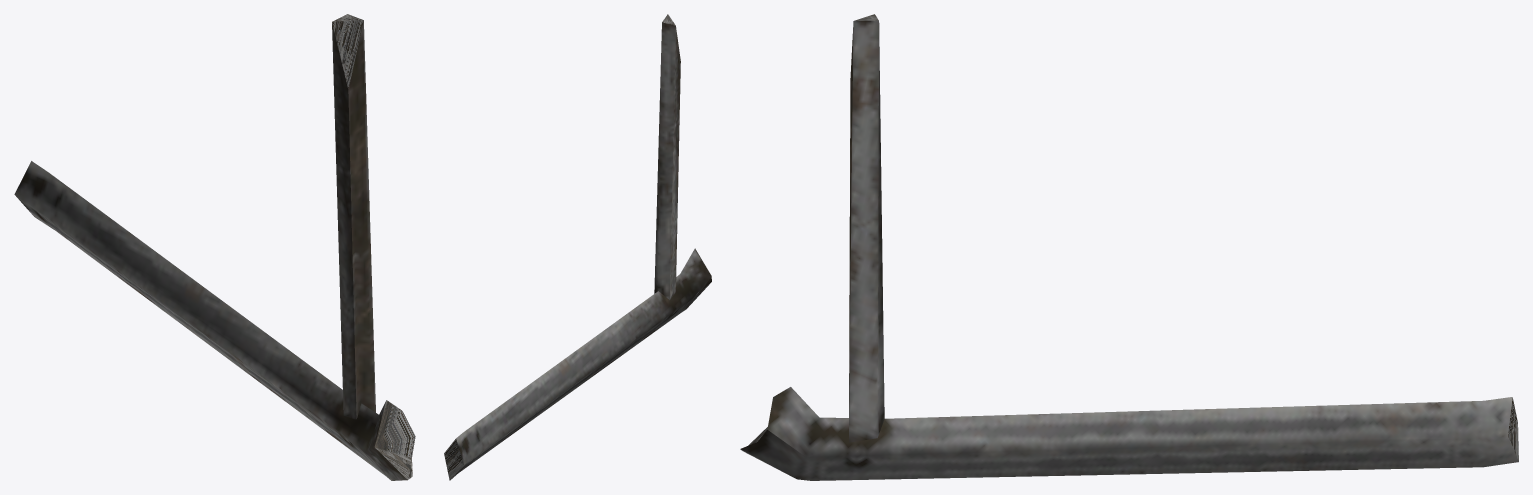
File: plane_wreckage_metalpart_03.dae
The picture shows the model from 3 angles, left to right: view 1: azimuth 30°, elevation 25°; view 2: azimuth 150°, elevation 25°; view 3: azimuth 270°, elevation 25°; orthographic projection. The views are drawn at different scales.
Parts seen in each view (by area): view 1: plane_wreckage_metalpart_03; view 2: plane_wreckage_metalpart_03; view 3: plane_wreckage_metalpart_03.
Boxes of the visible parts, x1,y1,x2,y2 form: plane_wreckage_metalpart_03: (14,14,415,480); plane_wreckage_metalpart_03: (444,14,711,480); plane_wreckage_metalpart_03: (740,14,1518,480).
Bounding box in the file's own units: 6.75 × 63.94 × 98.33.
